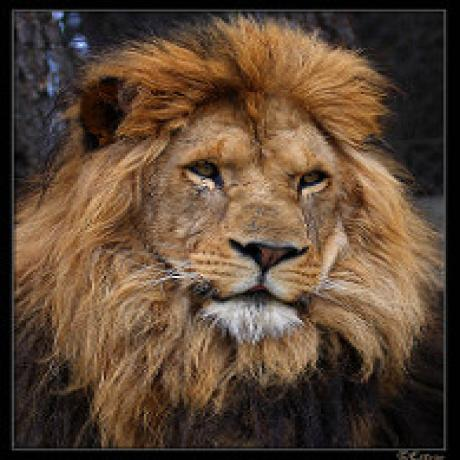Lion: (14, 19, 417, 446)
